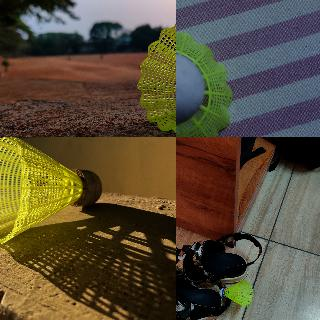shuttlecock: (0, 137, 102, 244), (176, 28, 232, 136), (136, 13, 175, 135), (220, 280, 252, 306)
